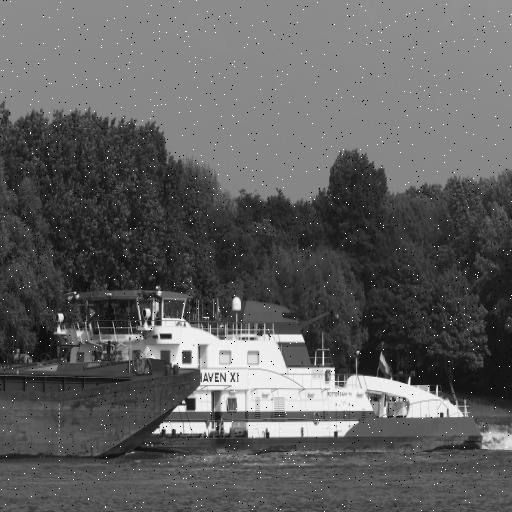tugboat: (39, 283, 488, 466)
